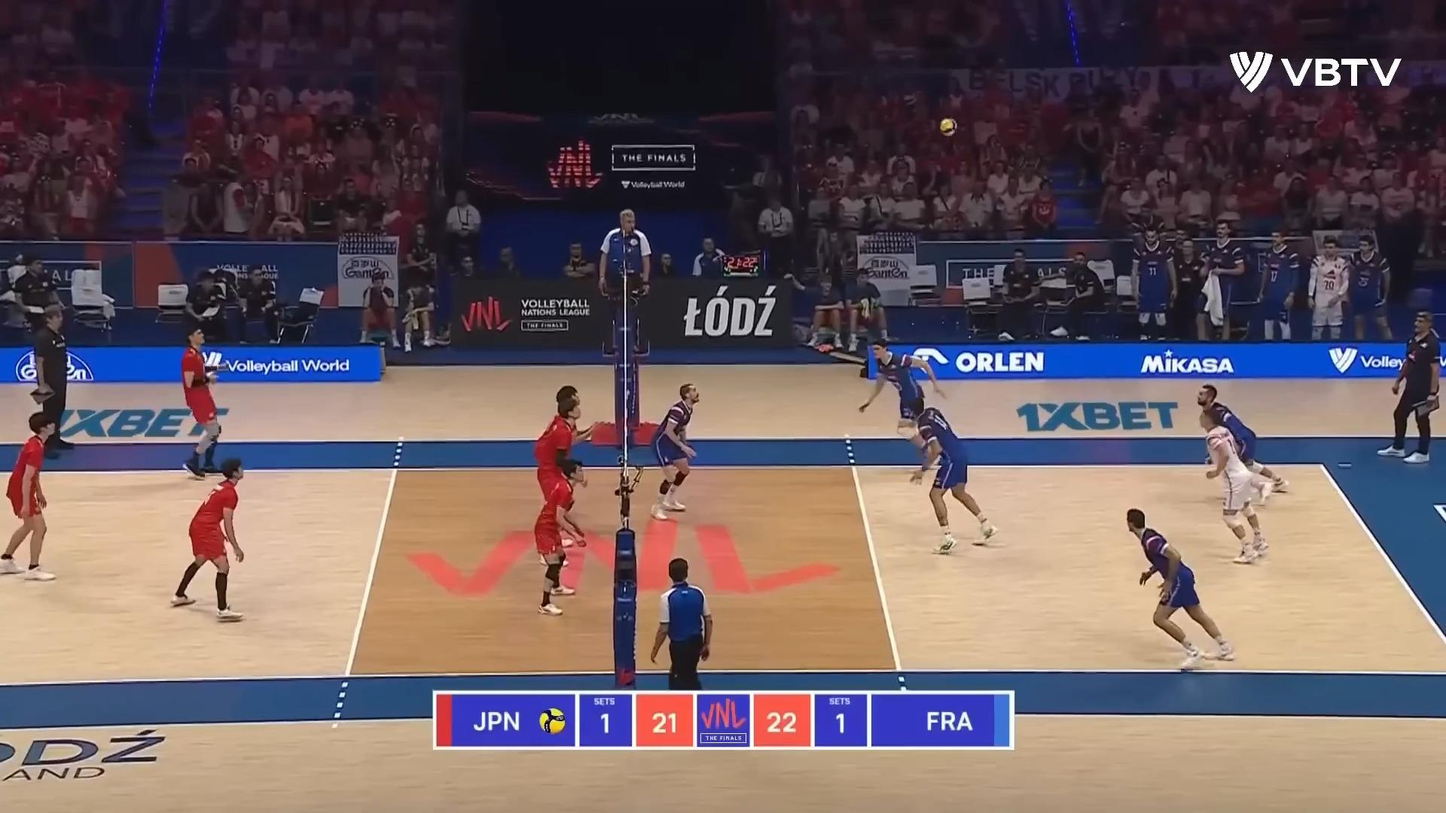ball: (939, 118, 958, 137)
